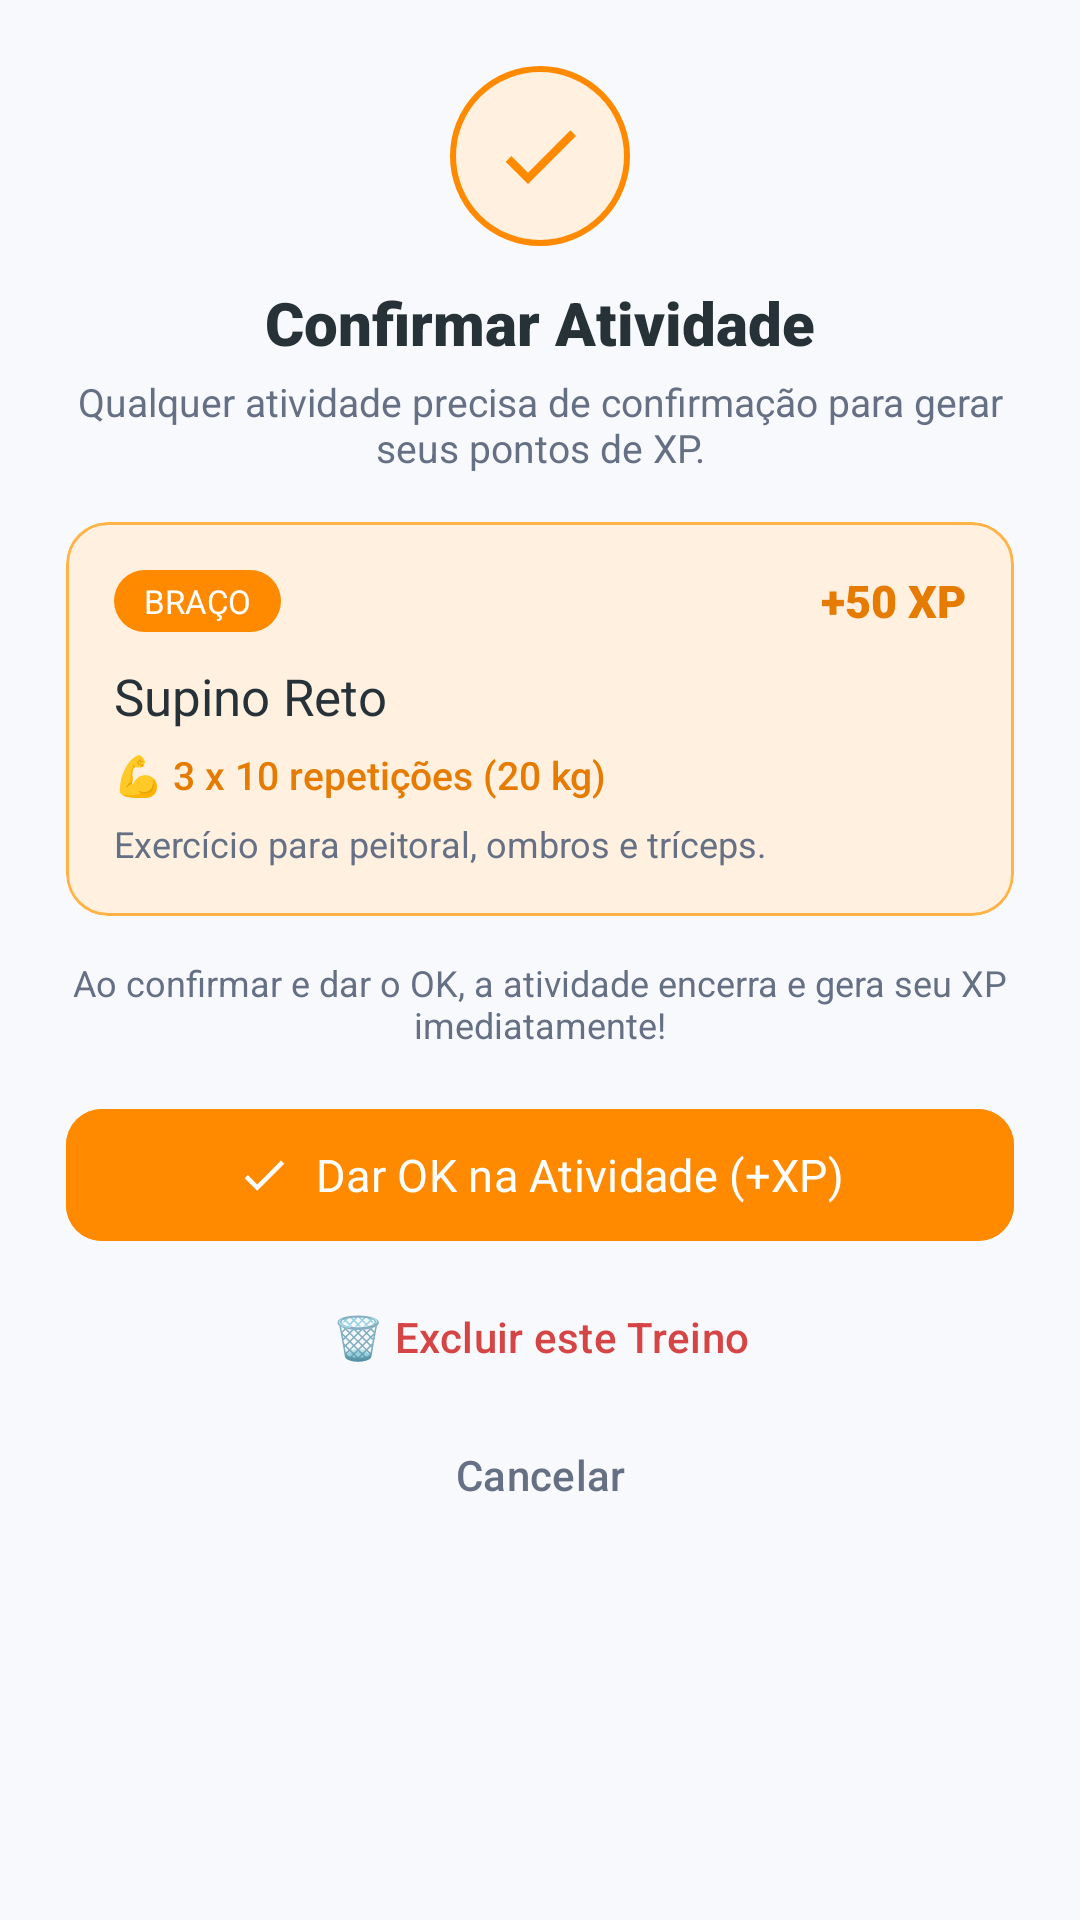

Screen size 1080 × 1920. Icon name, then its center in pixels as (x,y):
check: (540,157)
